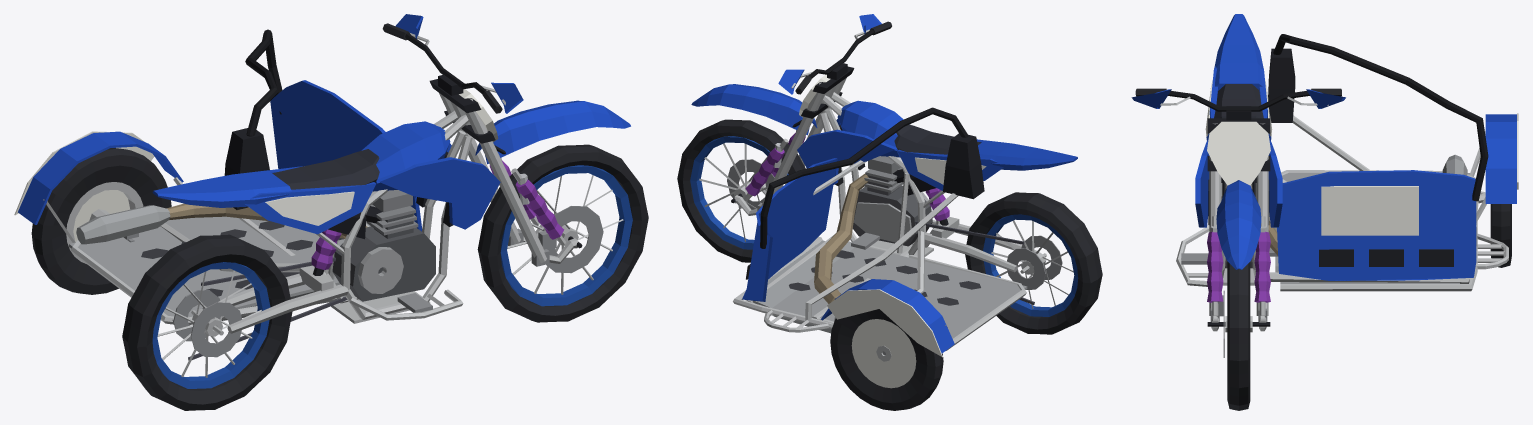
File: sidecar.glb
3 renders of one model, left to right at view 1: azimuth 30°, elevation 25°; view 2: azimuth 150°, elevation 25°; view 3: azimuth 270°, elevation 25°, orthographic. The views are drawn at different scales.
Parts seen in each view (by area): view 1: Rear_Tyre, Front_Tyre, Platform, Chair_Tyre, Chair_Board, Shroud_R, Front_Fender, Front_Rim, Engine_Case, Chair_Guard, Rear_Rim, Rear_Fender (+32 smaller); view 2: Platform, Rear_Tyre, Chair_Board, Chair_Tyre, Front_Tyre, Chair_Cover, Chair_Guard_Plate, Front_Fender, Shroud_L, Rail_Pad, Grab_Rail, Exhaust_Header (+31 smaller); view 3: Chair_Board, Chair_Board_Plate, Front_Tyre, Front_Plate, Front_Fender, Chair_Guard, Grab_Rail, Rear_Fender, Chair_Rail, Rail_Pad, Seat, Chair_Tyre (+19 smaller).
Part boxes in pixels (x1,y1,x2,y2): Rear_Tyre: (122, 234, 292, 410); Front_Tyre: (477, 144, 648, 322); Platform: (69, 216, 344, 323); Chair_Tyre: (31, 148, 171, 294); Chair_Board: (270, 80, 422, 231); Shroud_R: (377, 157, 500, 229); Front_Fender: (475, 100, 630, 164); Front_Rim: (500, 165, 632, 306); Engine_Case: (332, 226, 435, 301); Chair_Guard: (18, 131, 183, 224); Rear_Rim: (152, 262, 270, 388); Rear_Fender: (152, 170, 291, 207); Platform: (752, 241, 1027, 338); Rear_Tyre: (965, 192, 1102, 334); Chair_Board: (742, 158, 837, 301); Chair_Tyre: (830, 309, 943, 410); Front_Tyre: (677, 119, 805, 262); Chair_Cover: (851, 319, 916, 388); Chair_Guard_Plate: (827, 289, 942, 357); Front_Fender: (691, 84, 817, 135); Shroud_L: (797, 129, 896, 184); Rail_Pad: (943, 133, 984, 199); Grab_Rail: (760, 107, 968, 248); Exhaust_Header: (814, 173, 868, 303); Chair_Board: (1277, 170, 1476, 280); Chair_Board_Plate: (1321, 186, 1418, 235); Front_Tyre: (1227, 261, 1250, 410); Front_Plate: (1207, 121, 1270, 185); Front_Fender: (1216, 180, 1261, 269); Chair_Guard: (1485, 114, 1516, 203); Grab_Rail: (1273, 34, 1488, 201); Rear_Fender: (1214, 14, 1263, 90); Chair_Rail: (1269, 170, 1477, 291); Rail_Pad: (1268, 48, 1295, 122); Seat: (1214, 84, 1263, 118); Chair_Tyre: (1490, 204, 1511, 267).
Bounding box in the file's own units: 2.18 × 1.18 × 1.55.
